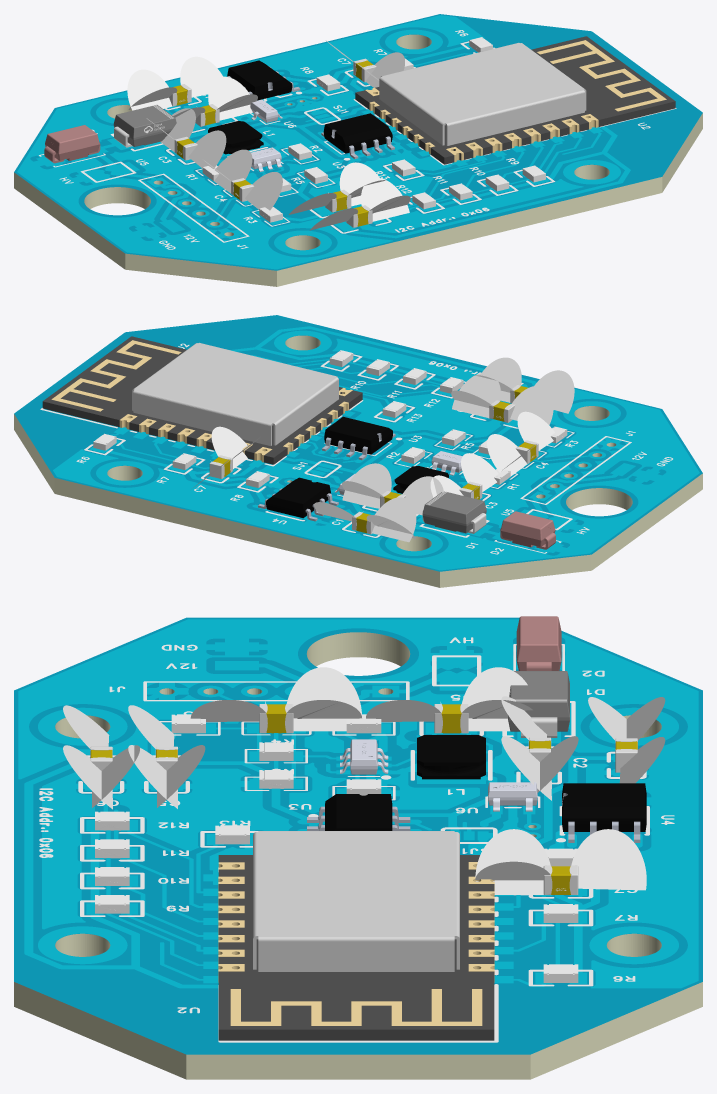
File: Yachta_PCB_V2.1.glb
3 renders of one model, top to bottom at view 1: azimuth 30°, elevation 25°; view 2: azimuth 150°, elevation 25°; view 3: azimuth 270°, elevation 25°, orthographic. The views are drawn at different scales.
Visible parts, largest first — view 1: Node2, Node14, Node15, Node19, Node18, Node13, Node7, Node1, Node12, Node8, Node6, Node16 (+5 smaller); view 2: Node2, Node14, Node15, Node18, Node19, Node13, Node7, Node1, Node12, Node8, Node6, Node16 (+5 smaller); view 3: Node2, Node14, Node18, Node19, Node15, Node13, Node7, Node1, Node12, Node8, Node6, Node3 (+5 smaller).
Part boxes in pixels (x1=…): Node2: x1=17, y1=15, x2=603, y2=269; Node14: x1=14, y1=14, x2=702, y2=270; Node15: x1=14, y1=34, x2=702, y2=286; Node19: x1=379, y1=42, x2=586, y2=145; Node18: x1=127, y1=40, x2=410, y2=230; Node13: x1=355, y1=36, x2=675, y2=164; Node7: x1=168, y1=43, x2=630, y2=238; Node1: x1=53, y1=37, x2=676, y2=249; Node12: x1=208, y1=60, x2=392, y2=154; Node8: x1=365, y1=40, x2=666, y2=162; Node6: x1=59, y1=33, x2=586, y2=247; Node16: x1=113, y1=105, x2=176, y2=146; Node2: x1=53, y1=338, x2=699, y2=570; Node14: x1=14, y1=315, x2=702, y2=571; Node15: x1=14, y1=335, x2=702, y2=587; Node18: x1=193, y1=357, x2=574, y2=542; Node19: x1=132, y1=342, x2=338, y2=445; Node13: x1=42, y1=336, x2=362, y2=464; Node7: x1=89, y1=326, x2=591, y2=535; Node1: x1=40, y1=343, x2=672, y2=554; Node12: x1=266, y1=416, x2=448, y2=518; Node8: x1=51, y1=340, x2=352, y2=462; Node6: x1=81, y1=354, x2=669, y2=551; Node16: x1=422, y1=491, x2=486, y2=533; Node2: x1=18, y1=619, x2=698, y2=988; Node14: x1=14, y1=617, x2=702, y2=1054; Node18: x1=63, y1=667, x2=665, y2=895; Node19: x1=253, y1=831, x2=459, y2=971; Node15: x1=14, y1=632, x2=702, y2=1079; Node13: x1=218, y1=855, x2=494, y2=1040; Node7: x1=24, y1=685, x2=642, y2=988; Node1: x1=39, y1=644, x2=674, y2=1042; Node12: x1=325, y1=735, x2=646, y2=831; Node8: x1=218, y1=862, x2=494, y2=1025; Node6: x1=39, y1=637, x2=674, y2=981; Node3: x1=41, y1=637, x2=649, y2=1013.
Bounding box in the file's own units: 59.97 × 4.56 × 39.97.
